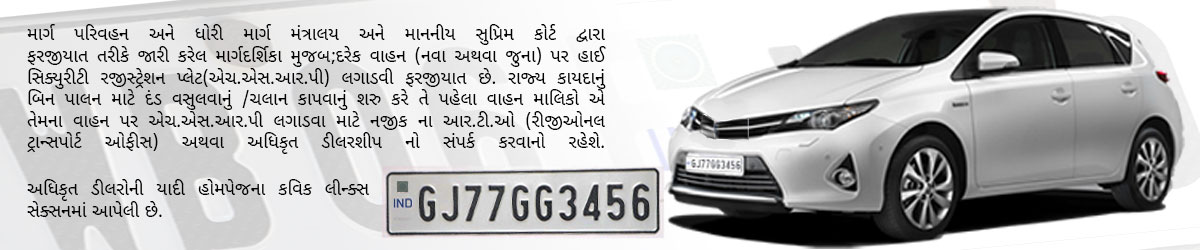number_plate: (387, 170, 661, 233), (681, 146, 752, 179)
